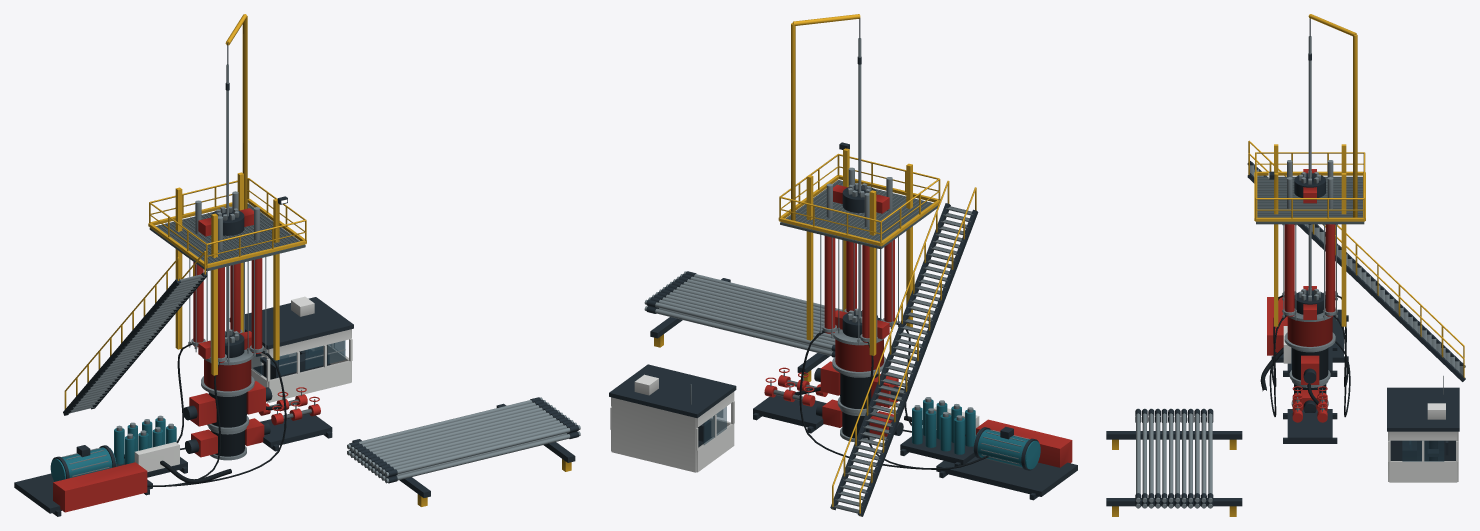
File: snubbing_unit_lodh.glb
3 views of the same model, side by side, from view 1: azimuth 30°, elevation 25°; view 2: azimuth 150°, elevation 25°; view 3: azimuth 270°, elevation 25° (orthographic). The views are drawn at different scales.
Visible parts, largest first — view 1: pipe_rack_surface_steel, control_cabin_surface_white, control_cabin_surface_dark, snubbing_frame_surface_yellow, hydraulic_jacks_surface_red, handrails_surface_yellow, hydraulic_power_pack_surface_red, stairs_surface_steel, drill_floor_surface_deck, pipe_rack_surface_dark, stairs_surface_dark, accumulator_surface_blue (+19 smaller); view 2: pipe_rack_surface_steel, control_cabin_surface_white, stairs_surface_steel, control_cabin_surface_dark, stairs_surface_dark, snubbing_frame_surface_yellow, hydraulic_jacks_surface_red, hydraulic_power_pack_surface_dark, handrails_surface_yellow, drill_floor_surface_deck, accumulator_surface_blue, stairs_surface_yellow (+21 smaller); view 3: pipe_rack_surface_steel, control_cabin_surface_dark, drill_floor_surface_deck, control_cabin_surface_white, pipe_rack_surface_dark, drill_floor_surface_steel, handrails_surface_yellow, hydraulic_jacks_surface_red, snubbing_frame_surface_yellow, stairs_surface_dark, choke_manifold_surface_dark, stairs_surface_steel (+16 smaller).
Part boxes in pixels (x1,y1,x2,y2): pipe_rack_surface_steel: [347, 397, 580, 483]; control_cabin_surface_white: [251, 296, 352, 402]; control_cabin_surface_dark: [229, 297, 353, 379]; snubbing_frame_surface_yellow: [175, 172, 279, 375]; hydraulic_jacks_surface_red: [193, 258, 262, 362]; handrails_surface_yellow: [148, 178, 306, 268]; hydraulic_power_pack_surface_red: [53, 462, 147, 512]; stairs_surface_steel: [68, 274, 204, 413]; drill_floor_surface_deck: [149, 203, 305, 271]; pipe_rack_surface_dark: [349, 397, 578, 497]; stairs_surface_dark: [63, 272, 207, 415]; accumulator_surface_blue: [114, 418, 176, 464]; pipe_rack_surface_steel: [644, 271, 882, 356]; control_cabin_surface_white: [610, 374, 734, 472]; stairs_surface_steel: [833, 206, 972, 513]; control_cabin_surface_dark: [609, 364, 736, 447]; stairs_surface_dark: [830, 203, 978, 516]; snubbing_frame_surface_yellow: [806, 148, 912, 355]; hydraulic_jacks_surface_red: [824, 236, 894, 342]; hydraulic_power_pack_surface_dark: [936, 426, 1077, 500]; handrails_surface_yellow: [778, 153, 940, 246]; drill_floor_surface_deck: [780, 180, 938, 249]; accumulator_surface_blue: [912, 399, 975, 454]; stairs_surface_yellow: [832, 180, 976, 515]; pipe_rack_surface_steel: [1136, 408, 1212, 508]; control_cabin_surface_dark: [1387, 387, 1459, 460]; drill_floor_surface_deck: [1256, 177, 1364, 224]; control_cabin_surface_white: [1388, 403, 1458, 482]; pipe_rack_surface_dark: [1106, 409, 1242, 507]; drill_floor_surface_steel: [1257, 176, 1362, 216]; handrails_surface_yellow: [1254, 152, 1365, 221]; hydraulic_jacks_surface_red: [1284, 224, 1335, 316]; snubbing_frame_surface_yellow: [1274, 144, 1346, 326]; stairs_surface_dark: [1247, 161, 1465, 381]; choke_manifold_surface_dark: [1283, 409, 1337, 443]; stairs_surface_steel: [1250, 164, 1463, 375].
Bounding box in the file's own units: 22.2 × 19.37 × 15.87.
